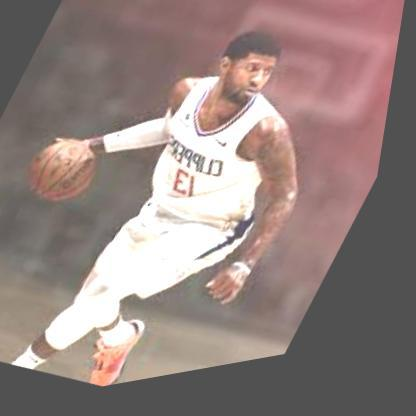basketball: (19, 128, 118, 221)
